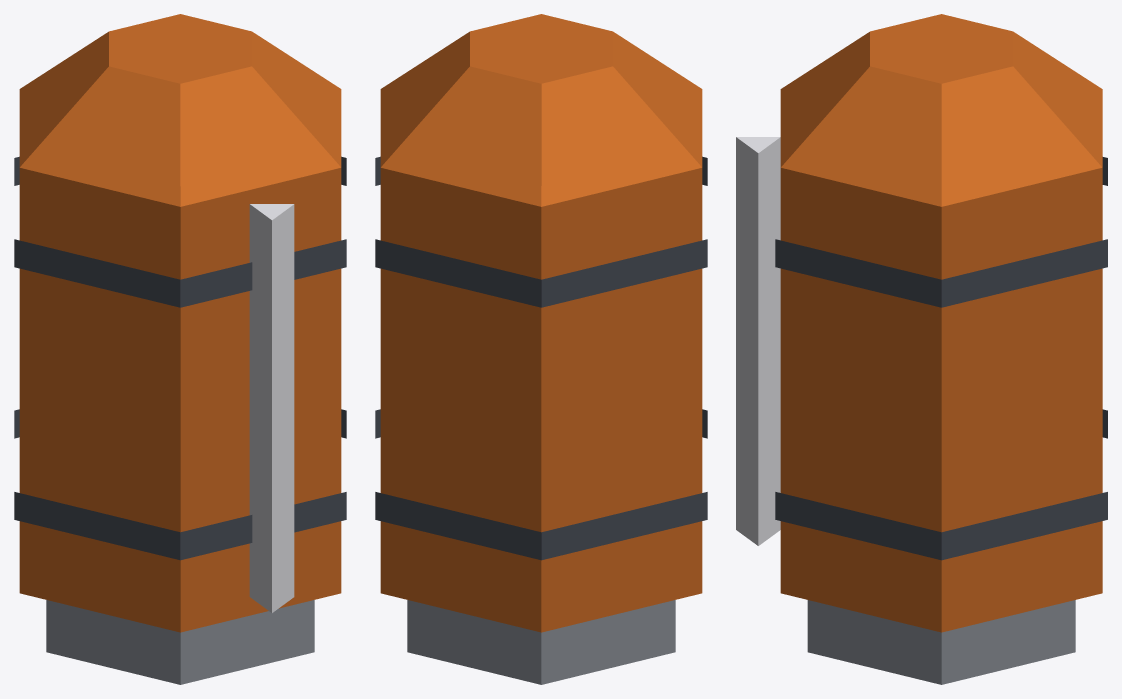
File: ship_radial_tank.obj
3 views of the same model, side by side, from view 1: azimuth 30°, elevation 25°; view 2: azimuth 150°, elevation 25°; view 3: azimuth 270°, elevation 25° (orthographic).
Parts seen in each view (by area): view 1: body, nose, stripe, bands, clamp; view 2: body, nose, bands, clamp; view 3: body, nose, bands, stripe, clamp.
Part boxes in pixels (x1,y1,x2,y2): body: (19,168,341,632); nose: (19,14,341,206); stripe: (249,204,294,612); bands: (14,156,346,560); clamp: (46,600,314,684); body: (380,168,702,632); nose: (380,14,702,206); bands: (375,156,707,560); clamp: (407,600,675,684); body: (780,167,1102,632); nose: (780,14,1102,206); bands: (775,157,1107,560); stripe: (736,137,780,545); clamp: (807,600,1075,684).
Size of the model in its own units: 0.744 by 1.22 by 0.7205.
